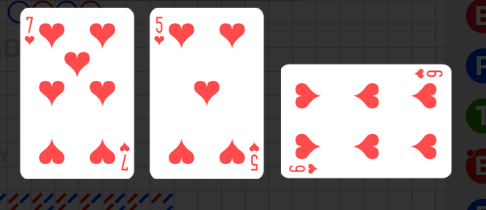5H: (248, 141, 260, 173)
6H: (413, 68, 444, 81)
7H: (24, 15, 37, 47)
